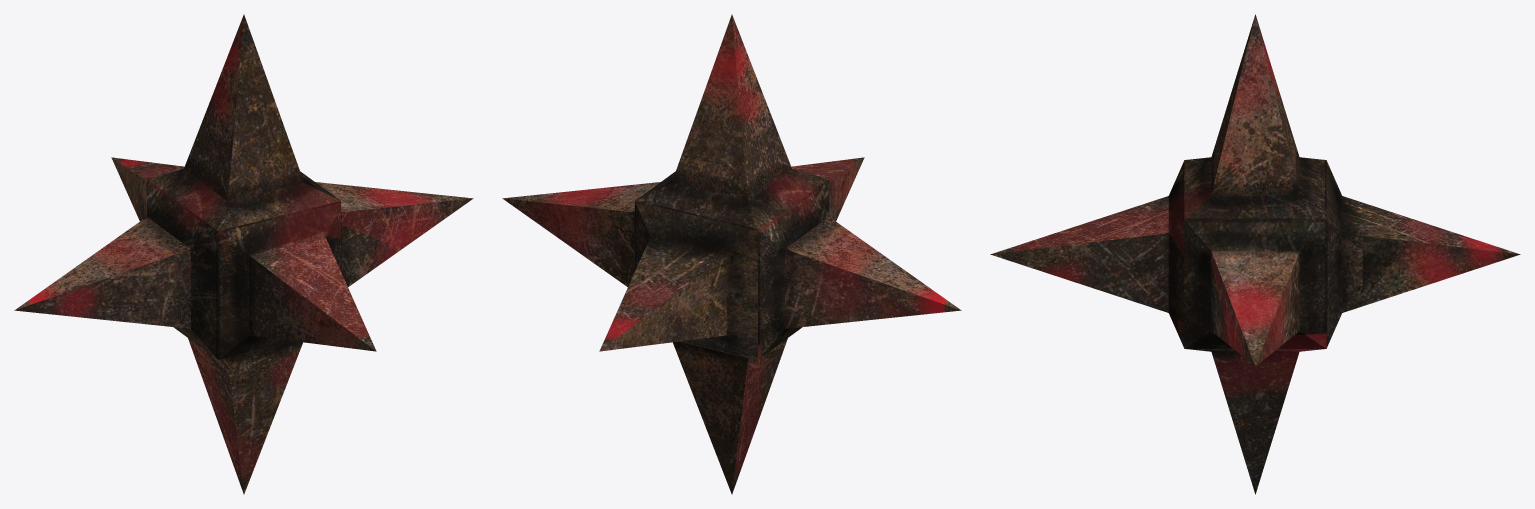
The model's file is pinche.fbx.
3 views of the same model, side by side, from view 1: azimuth 30°, elevation 25°; view 2: azimuth 150°, elevation 25°; view 3: azimuth 270°, elevation 25° (orthographic).
Parts seen in each view (by area): view 1: Cube; view 2: Cube; view 3: Cube.
Part boxes in pixels (x1=…): Cube: x1=14, y1=14, x2=473, y2=494; Cube: x1=502, y1=14, x2=961, y2=494; Cube: x1=990, y1=14, x2=1520, y2=494.
Bounding box in the file's own units: 1132 × 1132 × 1132.
1 material, 1 textured.
